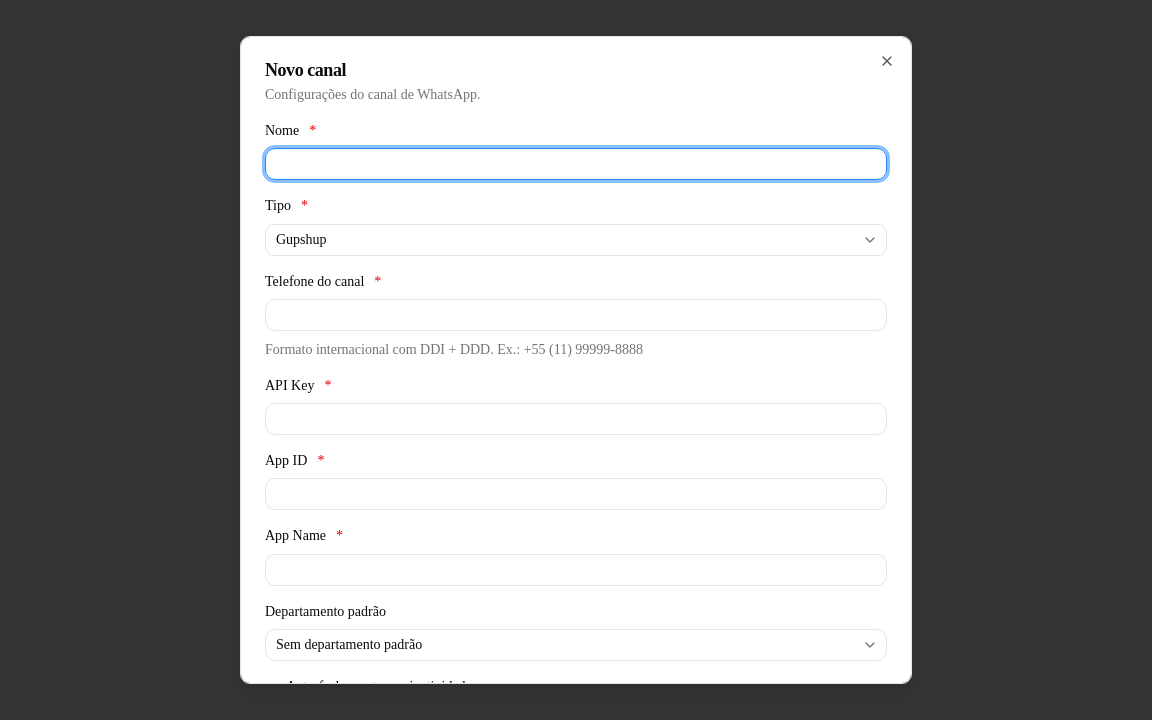
Test: ChannelDialogView › timeout > 0 sem closeReason exibe erro inline
This screenshot has width=1152, height=720.
Type "Canal X" into the field labelled "Nome *" at (576, 164), box x1=265 y1=148 x2=887 y2=180
Type "5511999998888" into the field labelled "Telefone do canal *" at (576, 315), box x1=265 y1=299 x2=887 y2=331
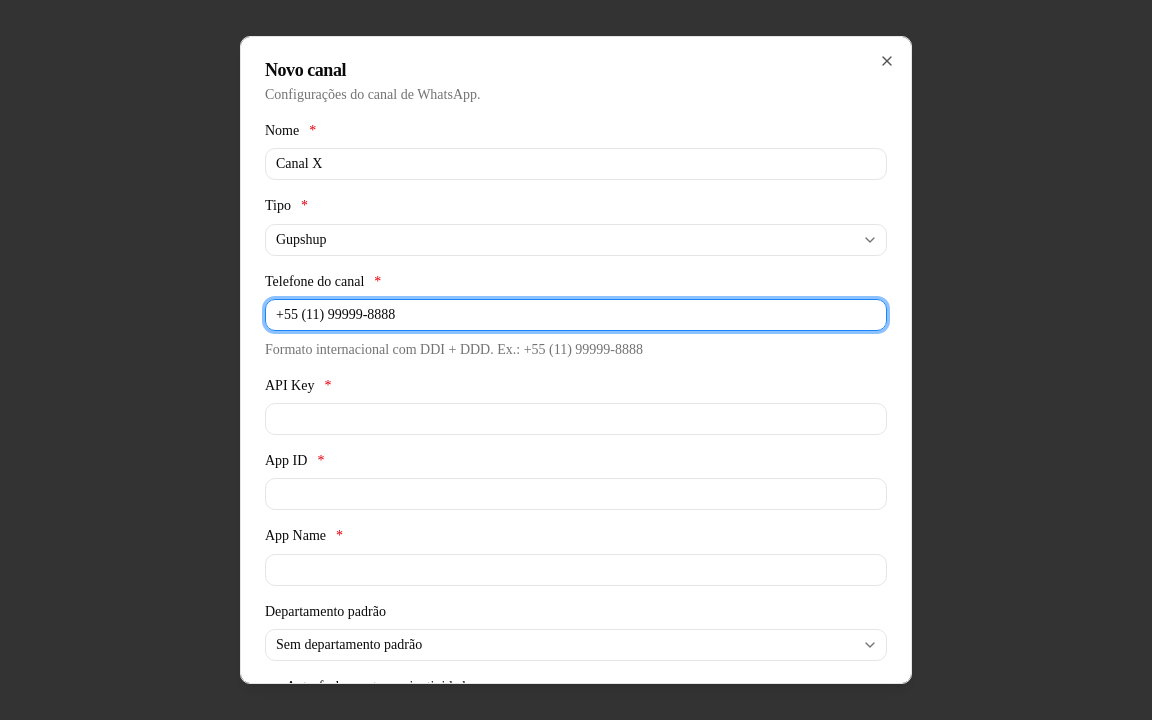
Type "k" into the field labelled "API Key *" at (576, 419), box x1=265 y1=403 x2=887 y2=435
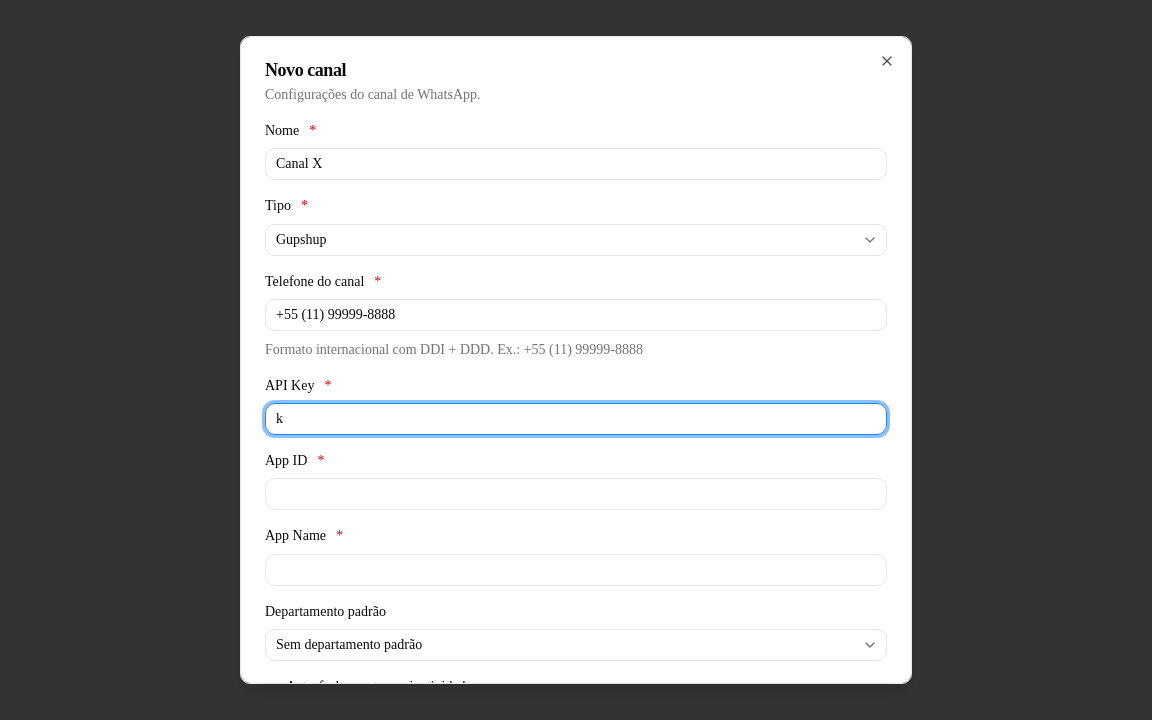
Type "a" into the field labelled "App ID *" at (576, 494), box x1=265 y1=478 x2=887 y2=510
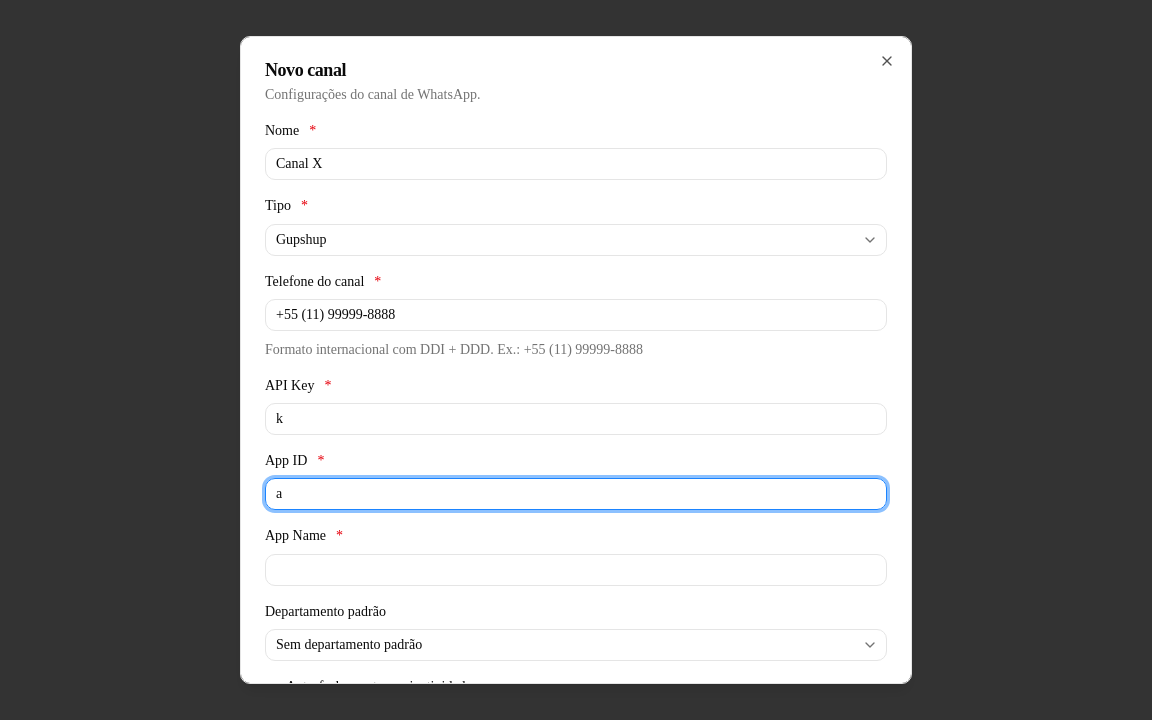
Type "n" into the field labelled "App Name *" at (576, 570), box x1=265 y1=554 x2=887 y2=586
(page scrolled)
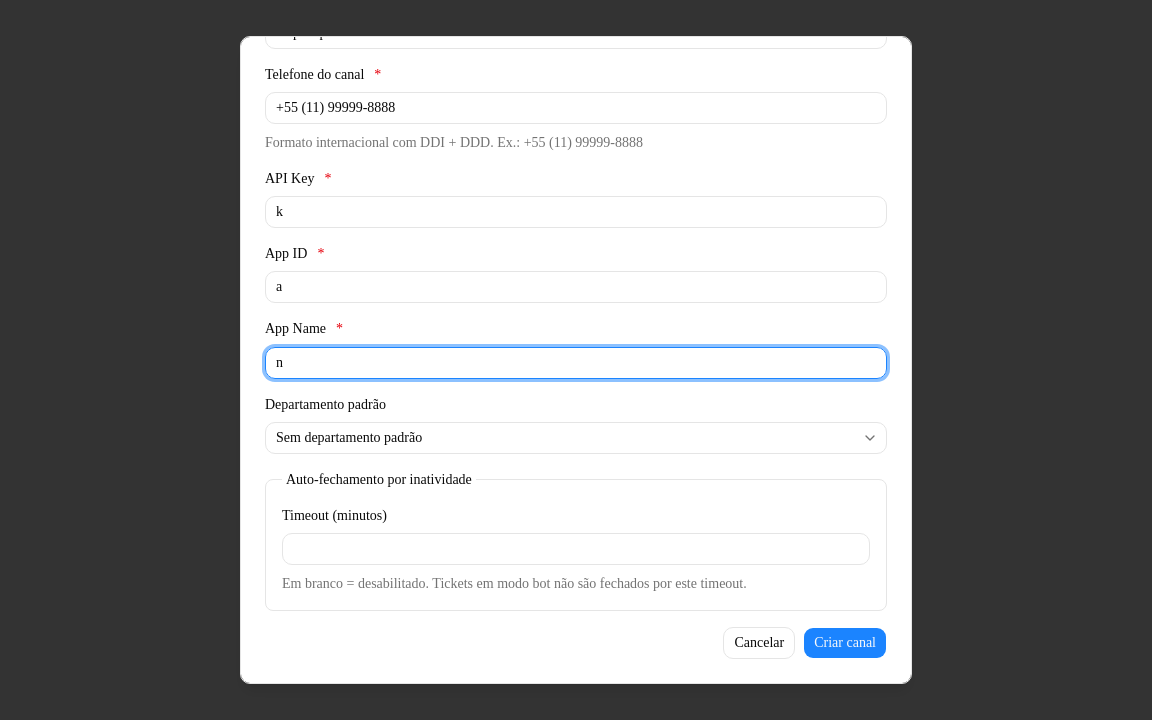
Type "30" into the number field labelled "Timeout (minutos)" at (576, 549), box x1=282 y1=533 x2=870 y2=565
(page scrolled)
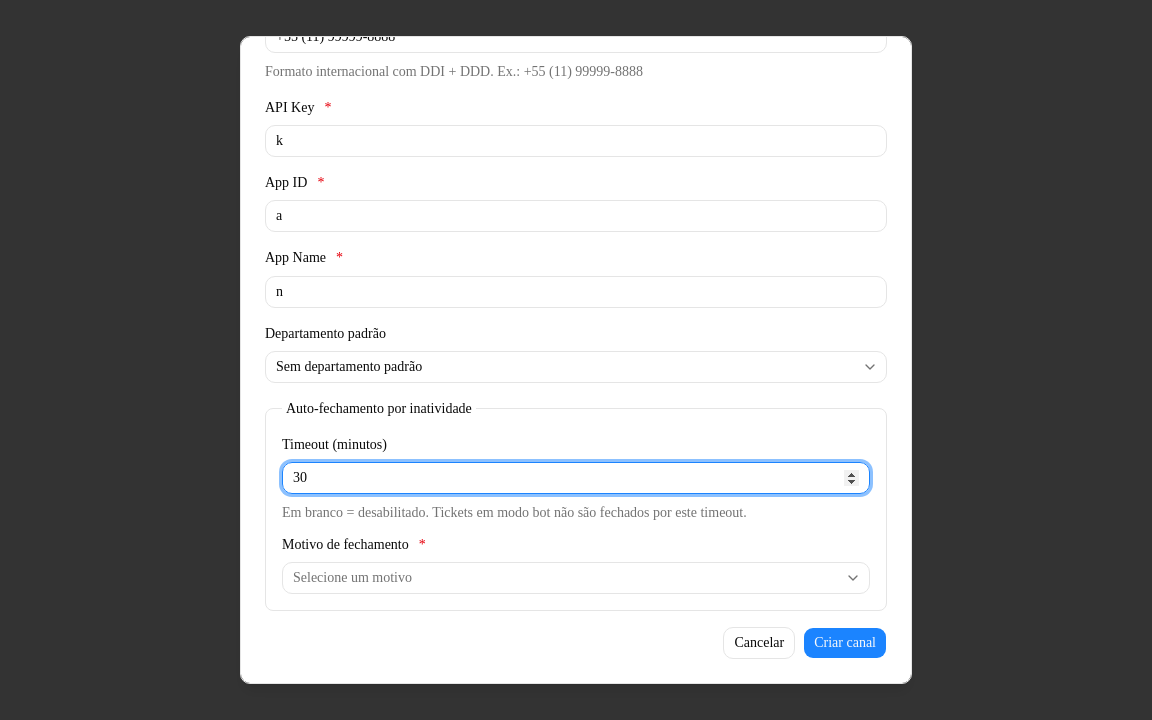
Click the button "Criar canal" at (845, 643), box x1=803 y1=627 x2=887 y2=659
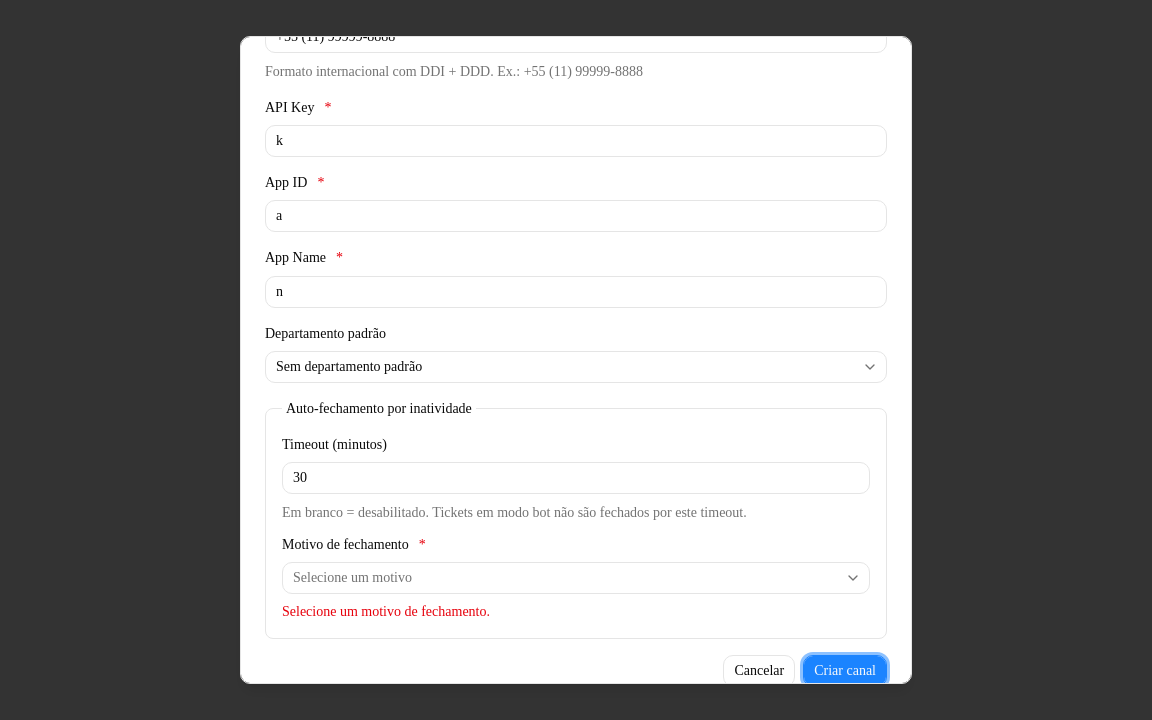
Expected: the text "Selecione um motivo de fechamento." is shown, x1=282 y1=604 x2=490 y2=619
